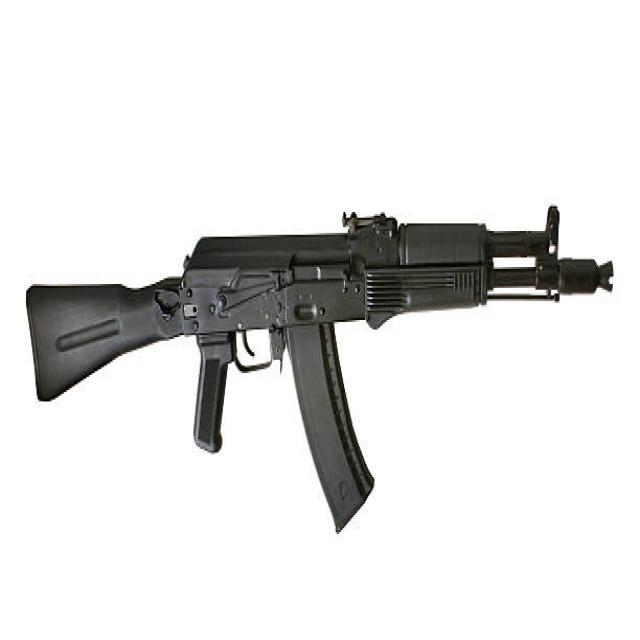rifle: (20, 206, 620, 546)
